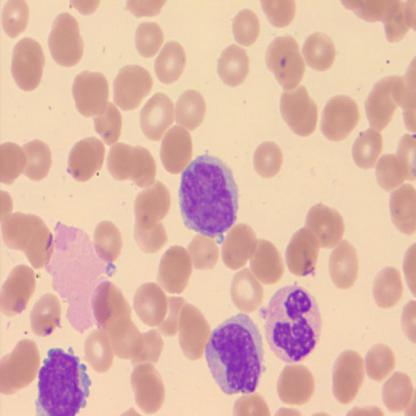Blast: (202, 309, 269, 398), (178, 150, 241, 241), (262, 280, 324, 366)
